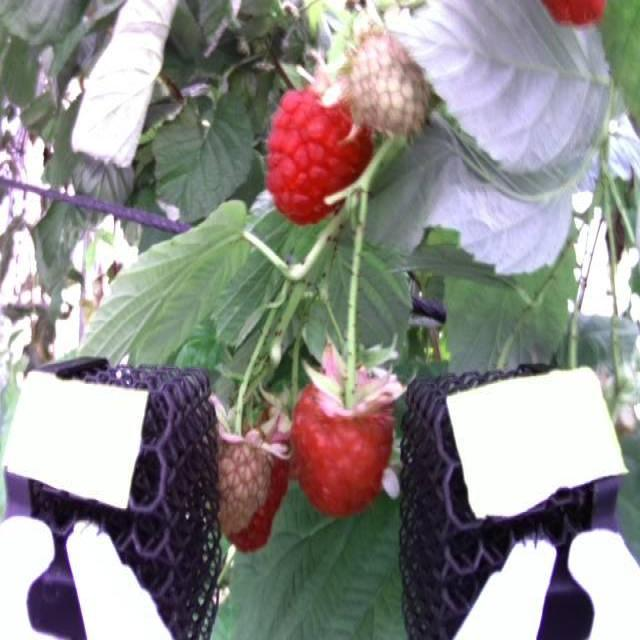Riped berries: (290, 362, 401, 514), (263, 78, 373, 222), (537, 0, 609, 27)
